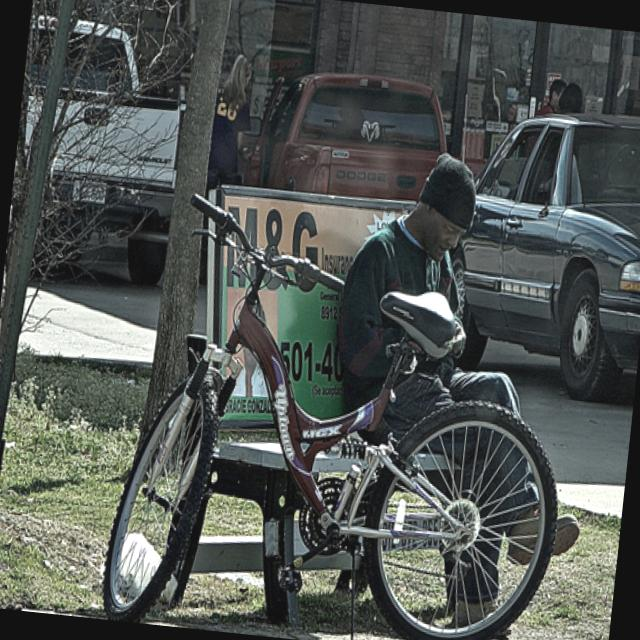Vehicle: (446, 98, 640, 404), (2, 12, 193, 300), (34, 83, 255, 300), (235, 62, 457, 206)
